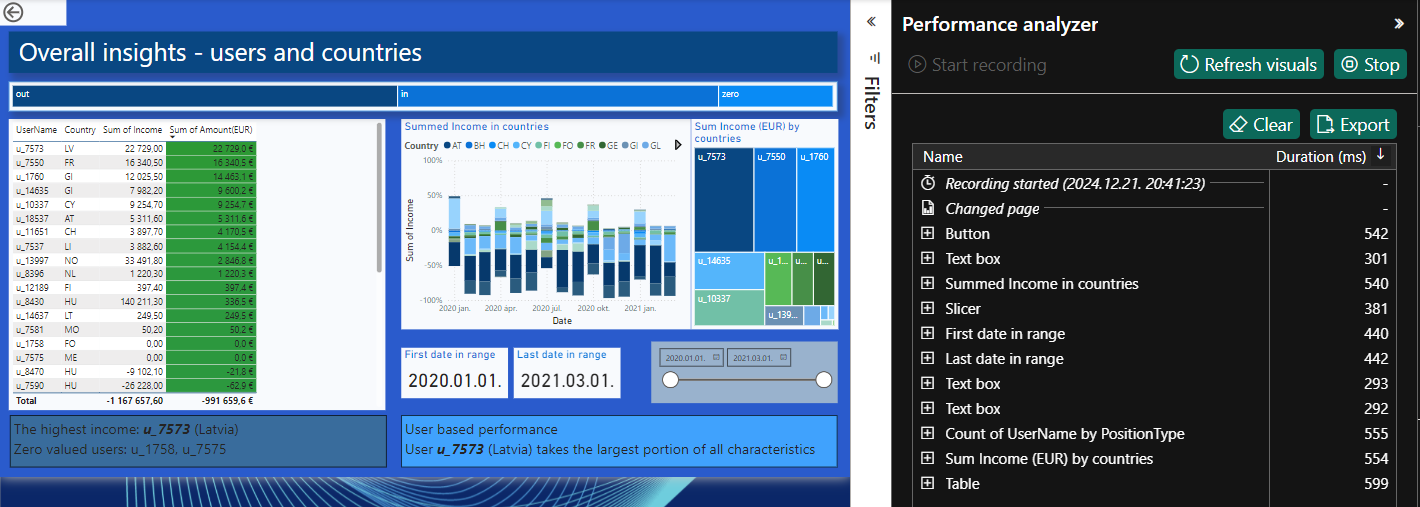

The page's visual inventory and layout, read from the dashboard file:
{"tool":"powerbi","page":{"name":"Ins_1","canvas":[1280,720],"ordinal":1},"visuals":[{"type":"tableEx","fields":{"Values":["DATA.UserName","DATA.Country","Sum(DATA.Income)","Sum(DATA.Amount(EUR))"]},"box":[13.8,180,567.5,438.3],"z":0},{"type":"actionButton","box":[0,0,100,40],"z":1000},{"type":"slicer","fields":{"Values":["DATA.CorrEndDate"]},"box":[981.4,516.7,280.6,93.2],"z":2000},{"type":"hundredPercentStackedColumnChart","title":"Summed Income in countries","fields":{"Category":["DATA.CorrEndDate.Variation.Date Hierarchy.Year"],"Series":["DATA.Country"],"Y":["Sum(DATA.Income)"]},"box":[604.5,180,436.2,316.6],"z":3000},{"type":"treemap","fields":{"Group":["DATA.IncomeType"],"Values":["CountNonNull(DATA.UserName)"]},"box":[14,124,1247.8,45],"z":4000},{"type":"textbox","box":[13.8,49.8,1248.2,62.5],"z":5000},{"type":"textbox","box":[14.3,627.1,567.1,78.6],"z":7000},{"type":"textbox","box":[604.3,627.1,657.1,78.6],"z":8000},{"type":"card","title":"First date in range","fields":{"Values":["Calculations.FirstDate_msr"]},"box":[604.5,525.1,160.9,76.2],"z":9000},{"type":"card","title":"Last date in range","fields":{"Values":["Calculations.LastDate_msr"]},"box":[772.9,525.1,160.9,76.2],"z":10000},{"type":"treemap","title":"Sum Income (EUR) by countries","fields":{"Values":["Sum(DATA.Amount(EUR))"],"Group":["DATA.UserName"]},"box":[1040.7,180,221.3,316.6],"z":11000}]}

Visuals, with their boxes on the page's 1280x720 design canvas (x1, y1, x2, y2). These are canvas units, not pixel positions in the 1420x507 screenshot, which may show the page scaled, cropped or inside an application window:
tableEx - DATA.UserName x DATA.Country: 14, 180, 581, 618
actionButton: 0, 0, 100, 40
slicer - DATA.CorrEndDate: 981, 517, 1262, 610
"Summed Income in countries" hundredPercentStackedColumnChart: 604, 180, 1041, 497
treemap - DATA.IncomeType x CountNonNull(DATA.UserName): 14, 124, 1262, 169
textbox: 14, 50, 1262, 112
textbox: 14, 627, 581, 706
textbox: 604, 627, 1261, 706
"First date in range" card: 604, 525, 765, 601
"Last date in range" card: 773, 525, 934, 601
"Sum Income (EUR) by countries" treemap: 1041, 180, 1262, 497
